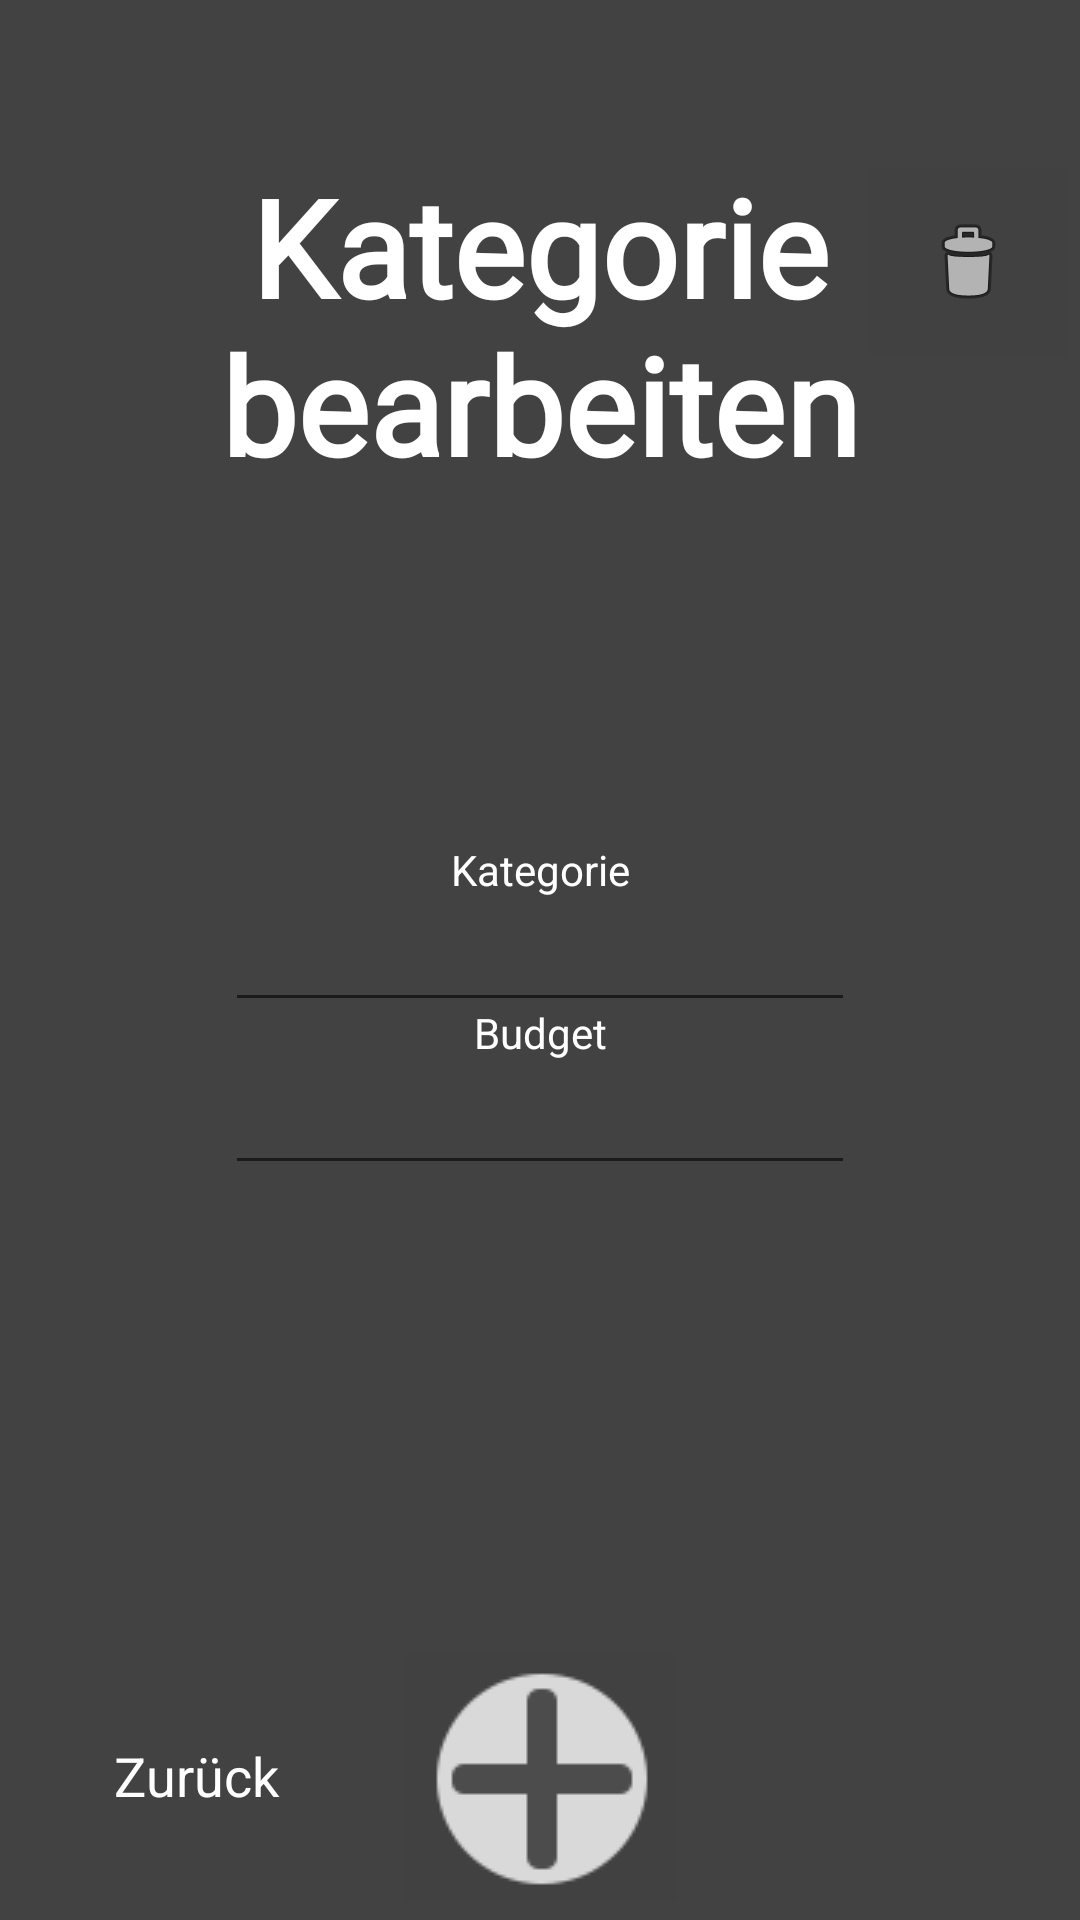

Locate icon controls on the screen. Image size 1080px x 1920px, boxes as [x1,y1,x2,y2].
delete: [942,225,995,298]
plus: [436,1673,648,1885]
